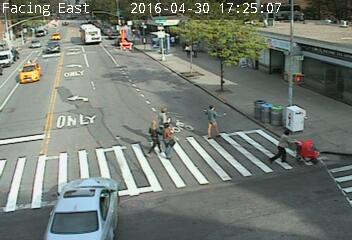neg: (18, 156, 56, 207), (70, 148, 103, 192), (14, 68, 34, 94), (256, 107, 276, 133), (143, 40, 162, 66), (208, 68, 227, 93), (32, 44, 50, 68), (176, 65, 187, 80)
pos: (150, 119, 183, 163), (193, 101, 226, 144), (269, 126, 301, 169), (138, 116, 169, 157), (150, 103, 174, 135)
